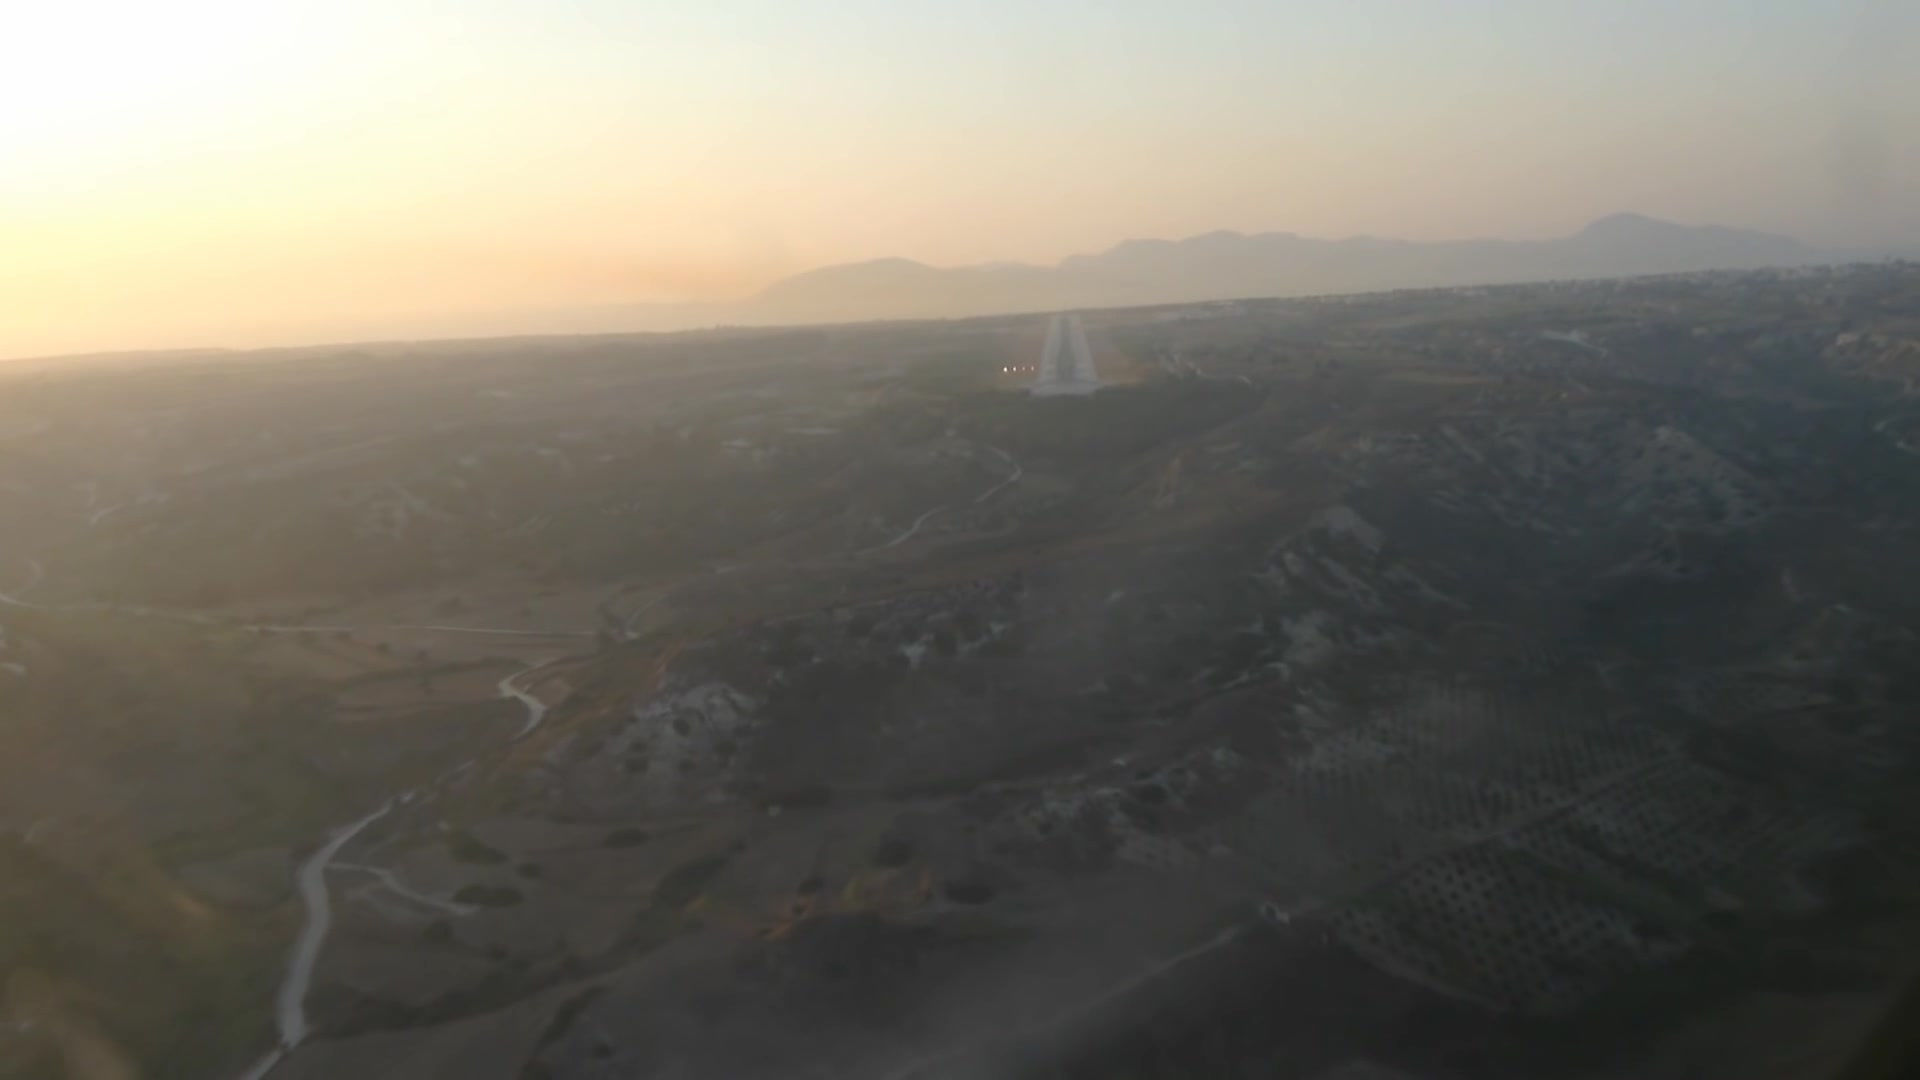runway: (1033, 311, 1100, 401)
